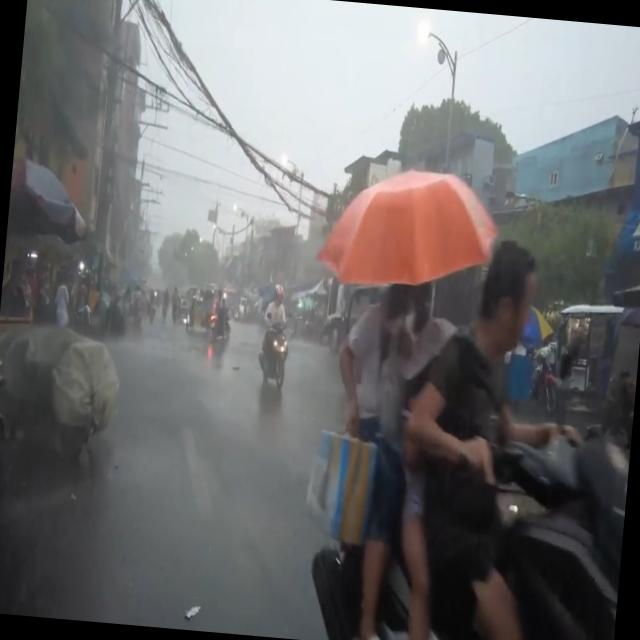full: (272, 282, 284, 308)
not_wearing: (475, 234, 538, 356)
